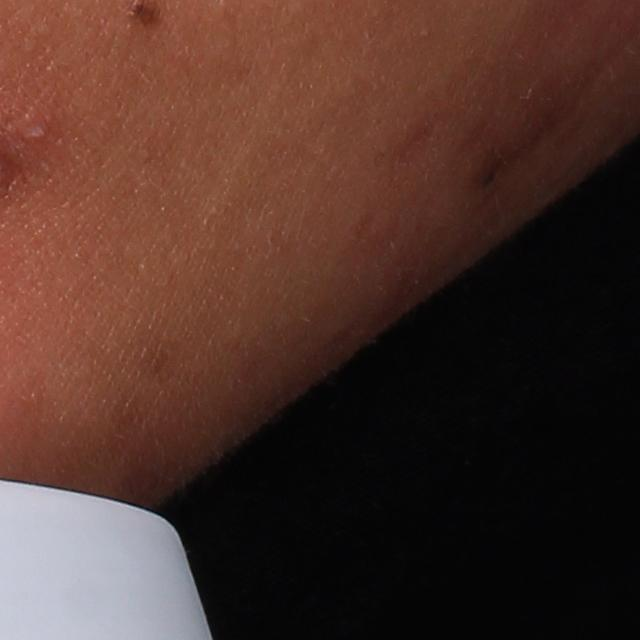papule: (18, 115, 46, 146)
